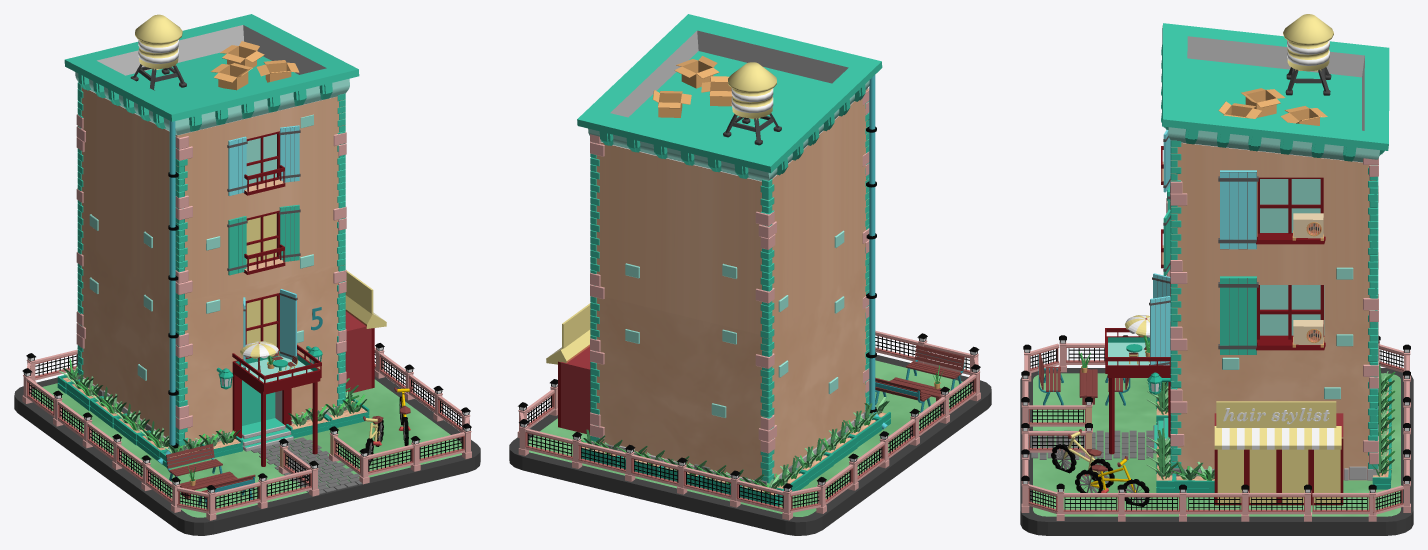
The model's file is lv3house_3.fbx.
3 views of the same model, side by side, from view 1: azimuth 30°, elevation 25°; view 2: azimuth 150°, elevation 25°; view 3: azimuth 270°, elevation 25° (orthographic). The views are drawn at different scales.
Visible parts, largest first — view 1: houselv3_3, housebase_lv3_3, housebank_lv3_3, houseumbrella_lv3_3; view 2: houselv3_3, housebase_lv3_3, housebank_lv3_3; view 3: houselv3_3, housebase_lv3_3, housebank_lv3_3, housebicycle_lv3_yellow_3, housebicycle_lv3_red_3, houseumbrella_lv3_3.
Part boxes in pixels (bbox=[...]): houselv3_3: bbox=[57, 14, 386, 468]; housebase_lv3_3: bbox=[14, 343, 480, 535]; housebank_lv3_3: bbox=[166, 443, 255, 507]; houseumbrella_lv3_3: bbox=[240, 341, 278, 372]; houselv3_3: bbox=[546, 14, 890, 506]; housebase_lv3_3: bbox=[509, 330, 991, 535]; housebank_lv3_3: bbox=[875, 345, 964, 412]; houselv3_3: bbox=[1105, 14, 1395, 505]; housebase_lv3_3: bbox=[1020, 335, 1413, 535]; housebank_lv3_3: bbox=[1038, 351, 1130, 405]; housebicycle_lv3_yellow_3: bbox=[1075, 456, 1150, 506]; housebicycle_lv3_red_3: bbox=[1051, 429, 1114, 487]; houseumbrella_lv3_3: bbox=[1125, 315, 1149, 349].
Size of the model in its own units: 2844 by 3604 by 3068.
